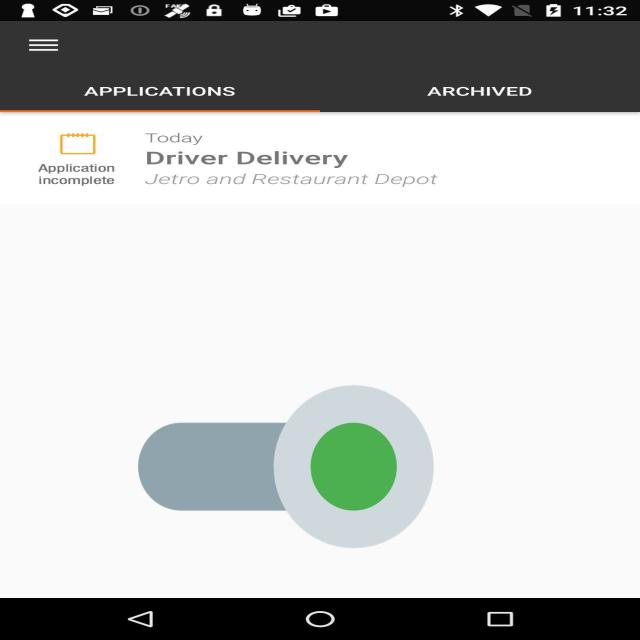social proof: (138, 316, 434, 617)
